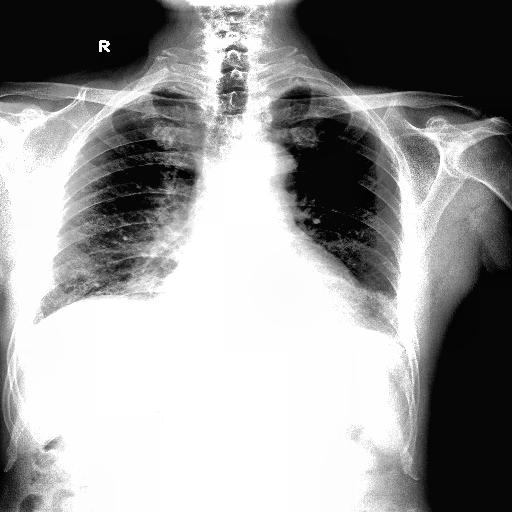0- Aortic enlargement: (228, 141, 300, 210), (238, 141, 300, 198), (236, 142, 298, 198)
11- Pleural thickening: (266, 76, 356, 98), (135, 83, 203, 94)
3- Cardiomegaly: (159, 264, 366, 330), (168, 268, 370, 335)
7- Lung Opacity: (128, 232, 186, 288)
